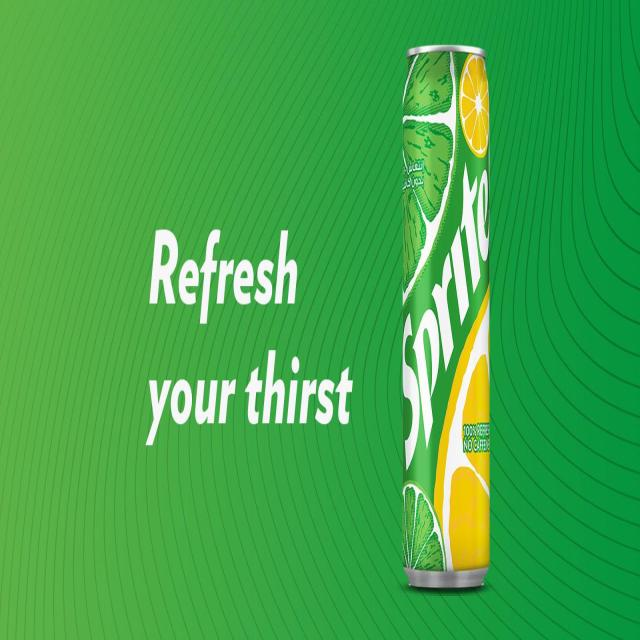sprite: (400, 41, 500, 595)
